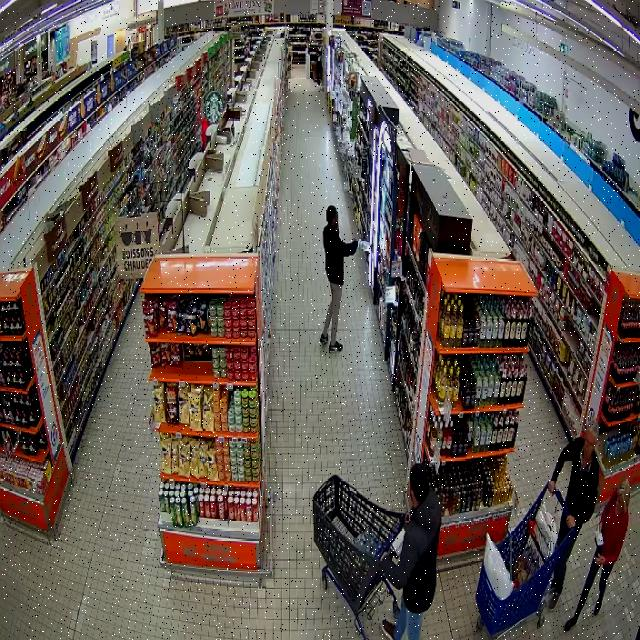article: (357, 239, 372, 252)
hands: (594, 555, 605, 566), (567, 516, 575, 528), (548, 481, 555, 494), (404, 512, 411, 524), (599, 521, 602, 532), (353, 237, 359, 241)
person: (381, 463, 440, 639), (565, 480, 627, 630), (548, 427, 598, 609), (320, 206, 358, 351)
